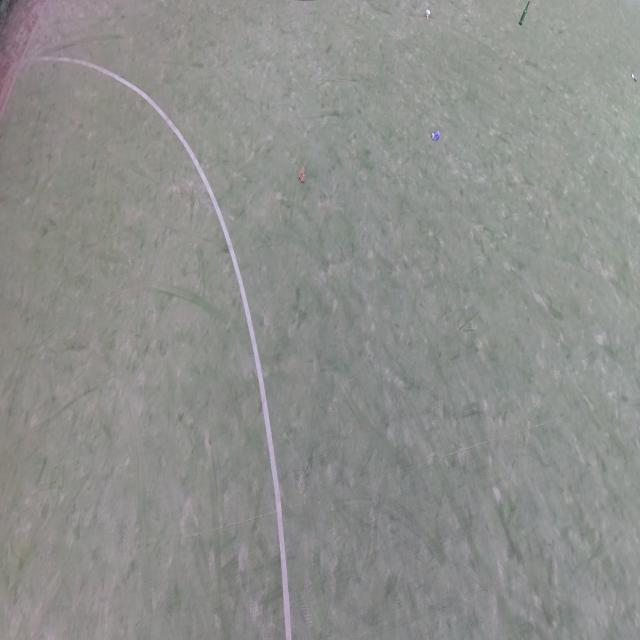rubbish: (518, 1, 529, 27), (298, 165, 305, 182), (431, 129, 440, 139), (425, 9, 430, 20), (631, 74, 637, 81)
